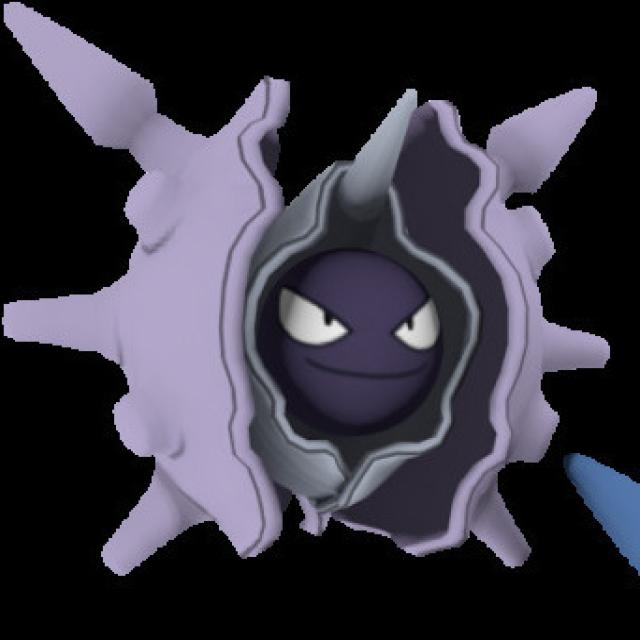Cloyster: (6, 6, 612, 586)
